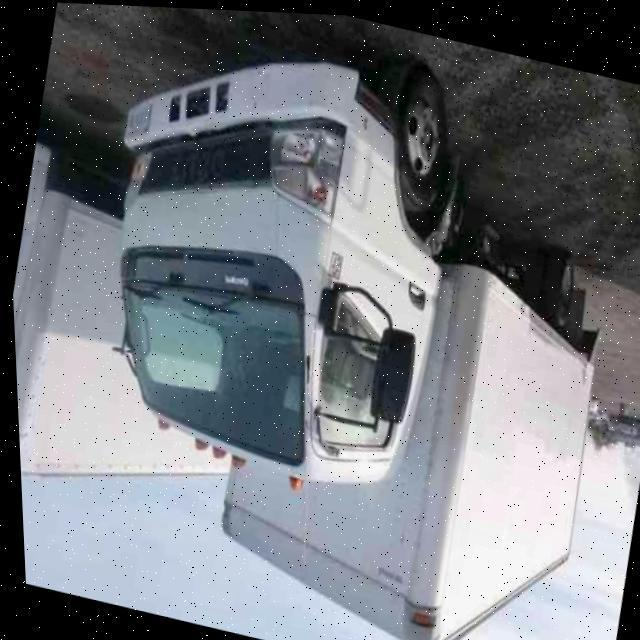truck: (29, 1, 640, 640)
